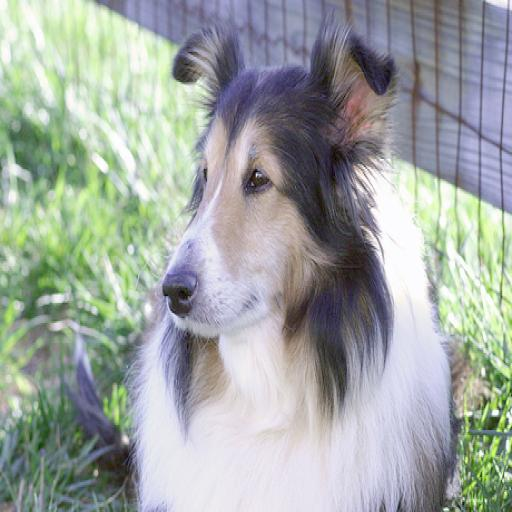dog_face: (158, 31, 392, 340)
